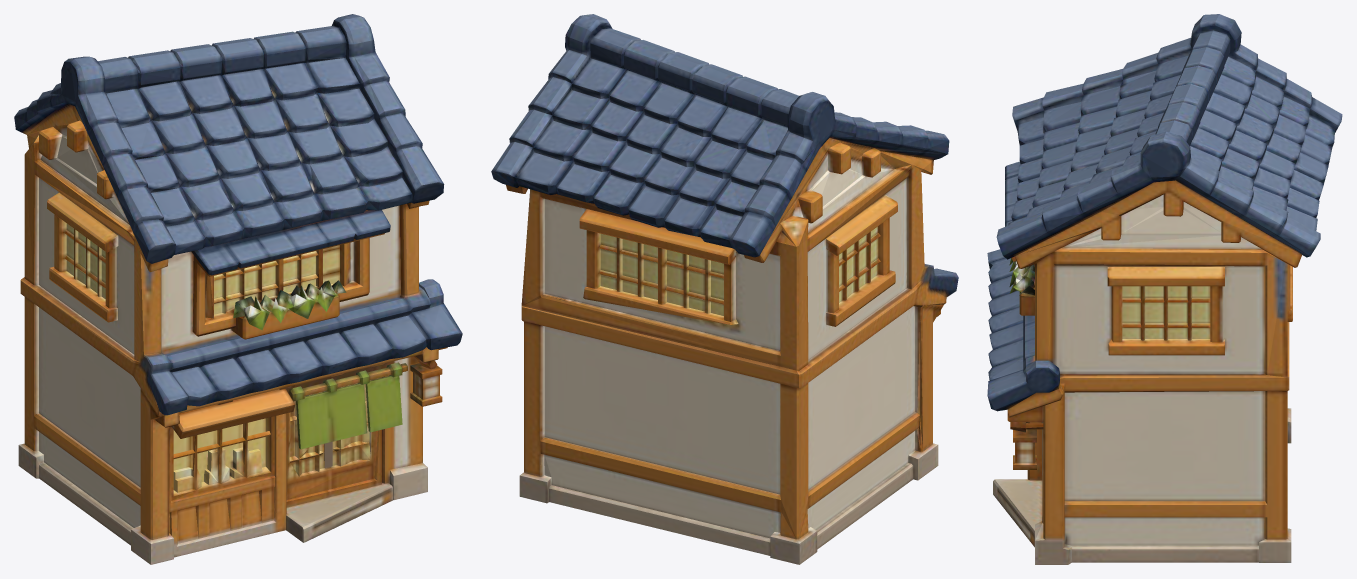
Rendered from shopa-CRk9HqQ3.glb.
3 renders of one model, left to right at view 1: azimuth 30°, elevation 25°; view 2: azimuth 150°, elevation 25°; view 3: azimuth 270°, elevation 25°, orthographic. The views are drawn at different scales.
Visible parts, largest first — view 1: tripo_node_a433900b-6b18-43c0-a855-ea5770b00089; view 2: tripo_node_a433900b-6b18-43c0-a855-ea5770b00089; view 3: tripo_node_a433900b-6b18-43c0-a855-ea5770b00089.
Part boxes in pixels (left/top/right/bottom): tripo_node_a433900b-6b18-43c0-a855-ea5770b00089: left=14, top=14, right=462, bottom=564; tripo_node_a433900b-6b18-43c0-a855-ea5770b00089: left=491, top=14, right=958, bottom=564; tripo_node_a433900b-6b18-43c0-a855-ea5770b00089: left=987, top=14, right=1342, bottom=564.
Size of the model in its own units: 0.7211 by 0.9774 by 0.7402.
1 material, 1 textured.
